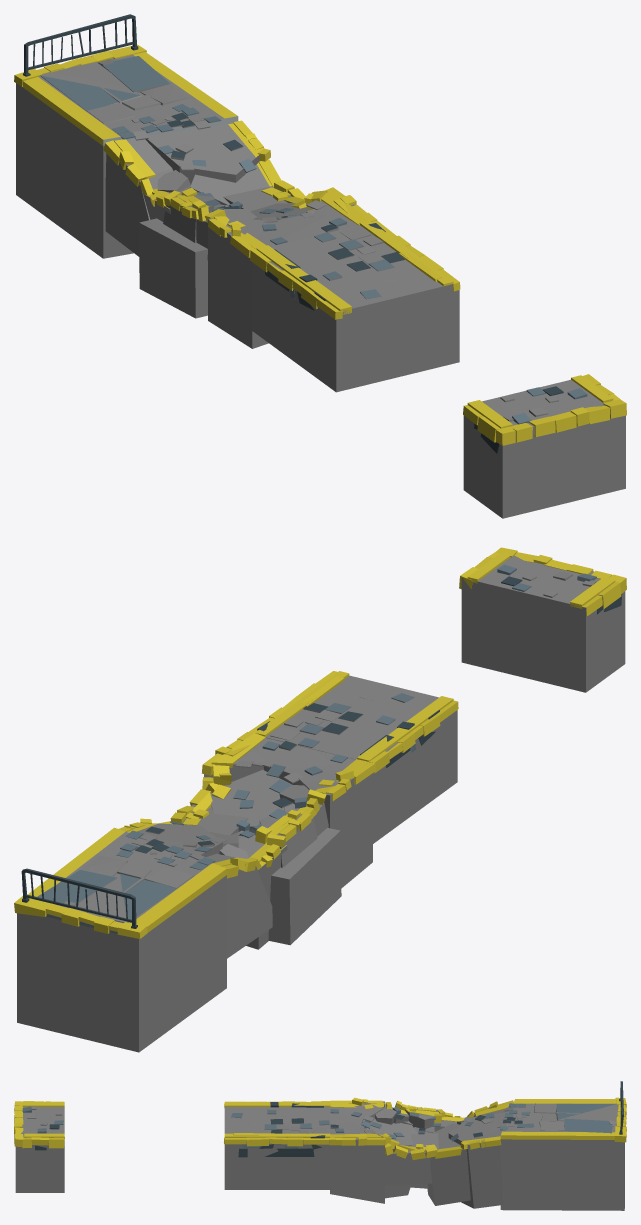
The model's file is NY_Platforms.fbx.
The picture shows the model from 3 angles, top to bottom: view 1: azimuth 30°, elevation 25°; view 2: azimuth 150°, elevation 25°; view 3: azimuth 270°, elevation 25°; orthographic projection. The views are drawn at different scales.
Parts seen in each view (by area): view 1: platformPit, platformMid, platformHome, platformEnd; view 2: platformHome, platformPit, platformEnd, platformMid; view 3: platformPit, platformHome, platformMid, platformEnd.
Part boxes in pixels (box(x1,y1,x2,y2)): platformPit: box(103, 120, 377, 348); platformMid: box(250, 220, 460, 392); platformHome: box(14, 14, 238, 258); platformEnd: box(463, 374, 626, 518); platformHome: box(14, 827, 226, 1052); platformPit: box(119, 732, 375, 958); platformEnd: box(459, 547, 626, 692); platformMid: box(249, 671, 458, 843); platformPit: box(329, 1097, 513, 1208); platformHome: box(497, 1081, 626, 1210); platformMid: box(224, 1101, 330, 1189); platformEnd: box(14, 1101, 64, 1192).
Bounding box in the file's own units: 304 × 318 × 1791.
